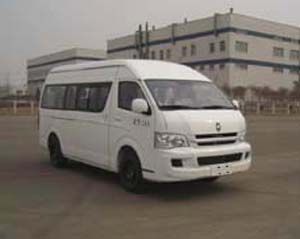midcar: (32, 52, 259, 198)
